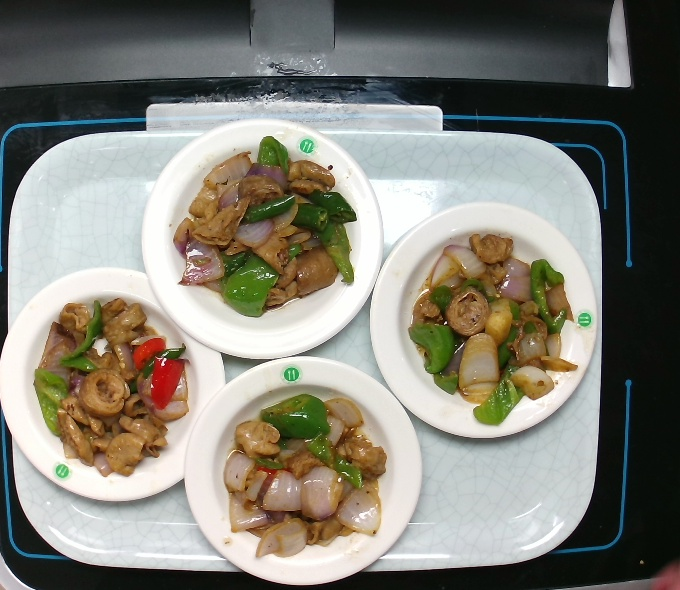wcq-QingJiaoChaoDaChang: (169, 133, 361, 322), (404, 229, 583, 431), (29, 293, 195, 482), (218, 392, 395, 563)
